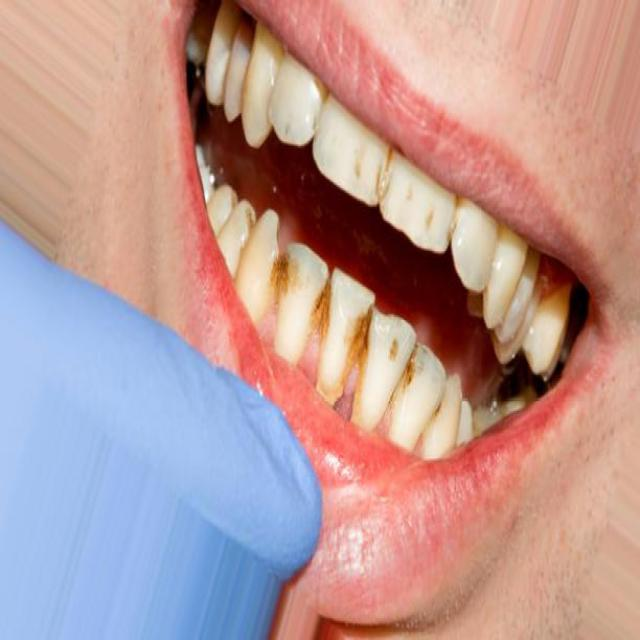caries: (391, 325, 431, 404)
